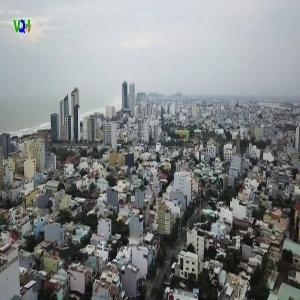drone: (26, 214, 110, 298)
